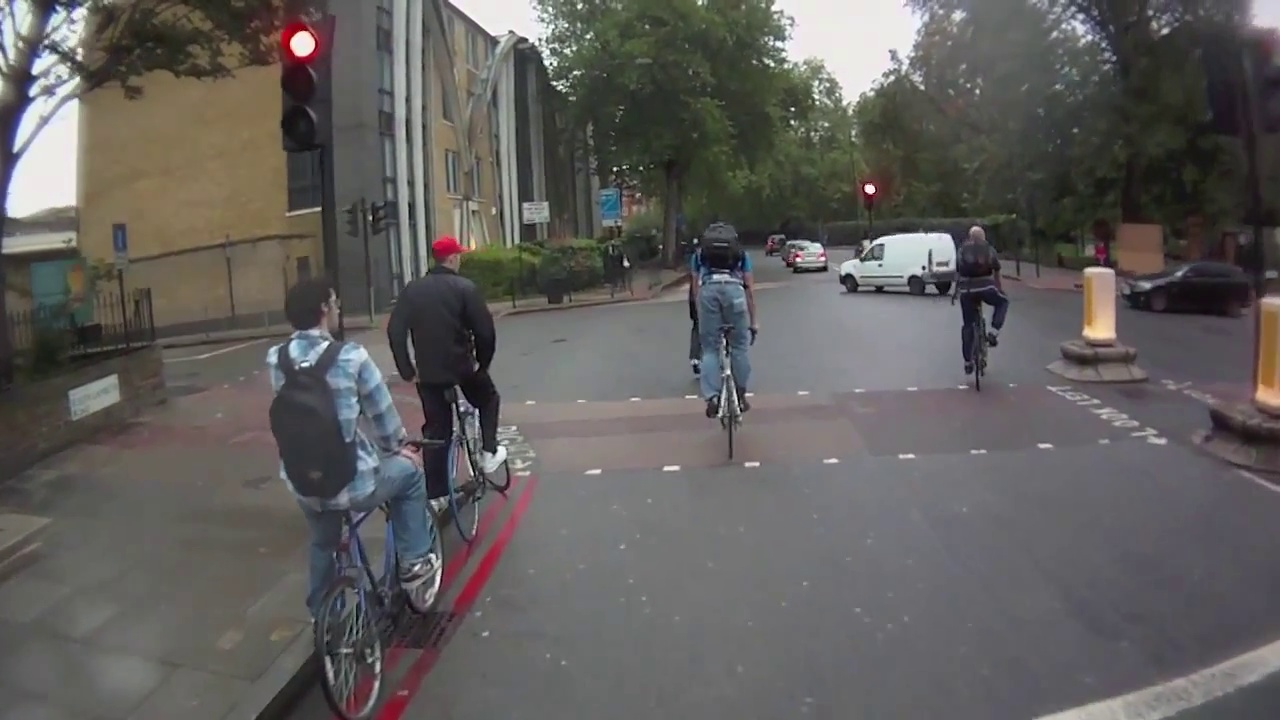cyclist_back: (265, 285, 455, 716), (395, 230, 526, 544), (689, 208, 762, 474), (951, 217, 1012, 400)
